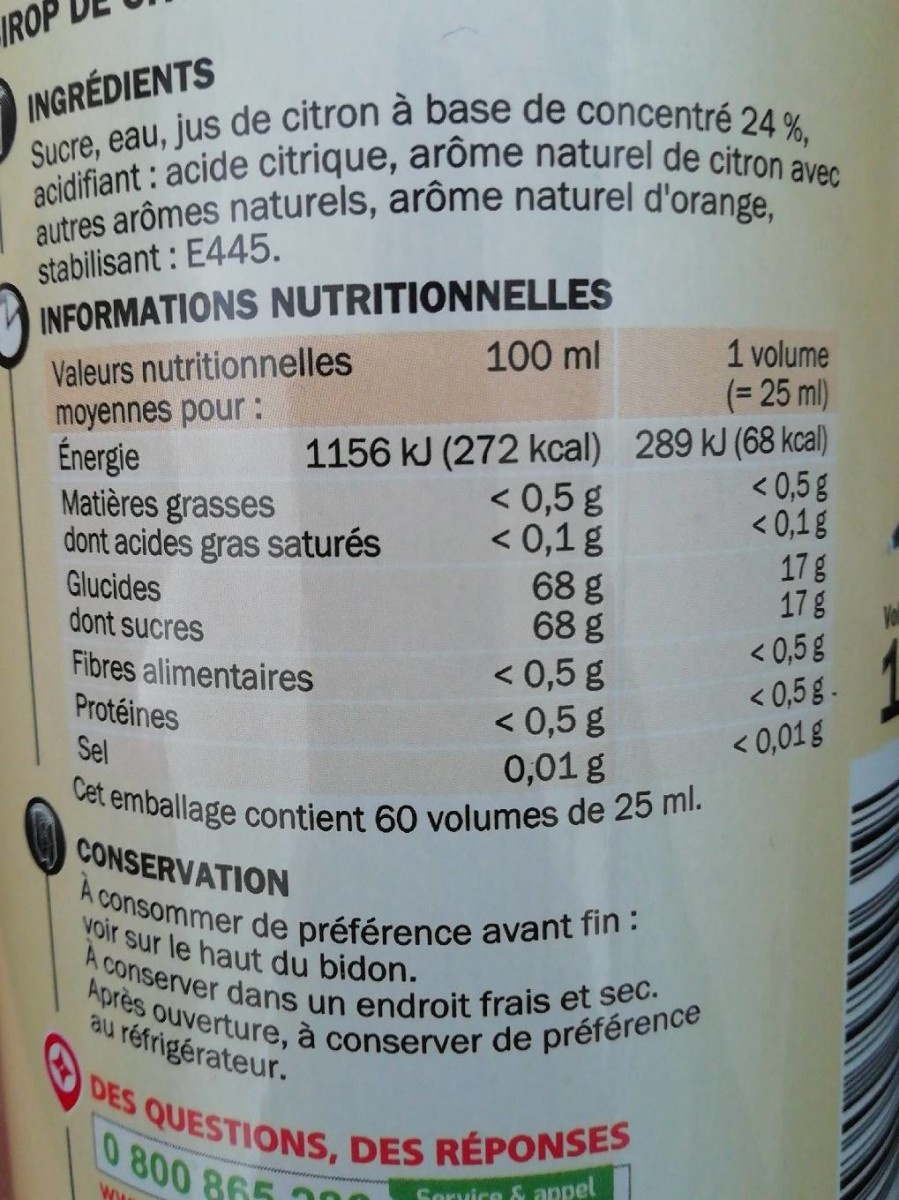table: (48, 339, 844, 790)
